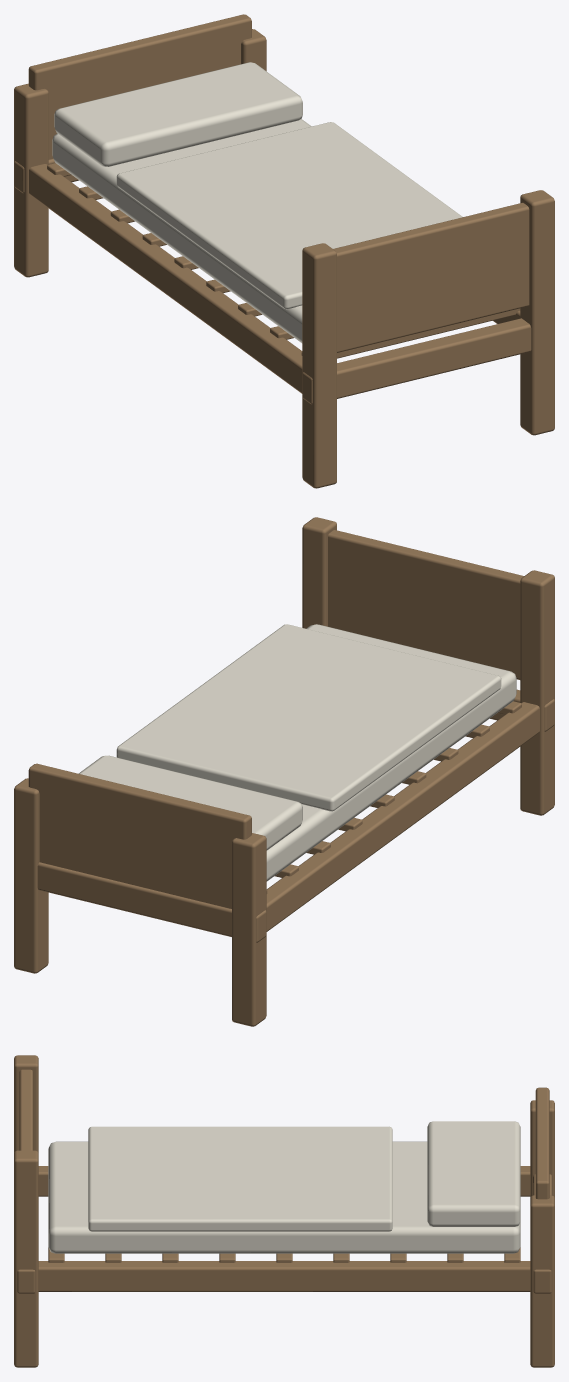
The model's file is dormitory-cot.glb.
3 views of the same model, one above another, from view 1: azimuth 30°, elevation 25°; view 2: azimuth 150°, elevation 25°; view 3: azimuth 270°, elevation 25° (orthographic). The views are drawn at different scales.
Parts seen in each view (by area): view 1: dormitory-cot; view 2: dormitory-cot; view 3: dormitory-cot.
Part boxes in pixels (x1,y1,x2,y2): dormitory-cot: [14, 14, 554, 488]; dormitory-cot: [14, 517, 554, 1026]; dormitory-cot: [14, 1055, 554, 1367].
Bounding box in the file's own units: 0.9199 × 0.8401 × 1.97.
